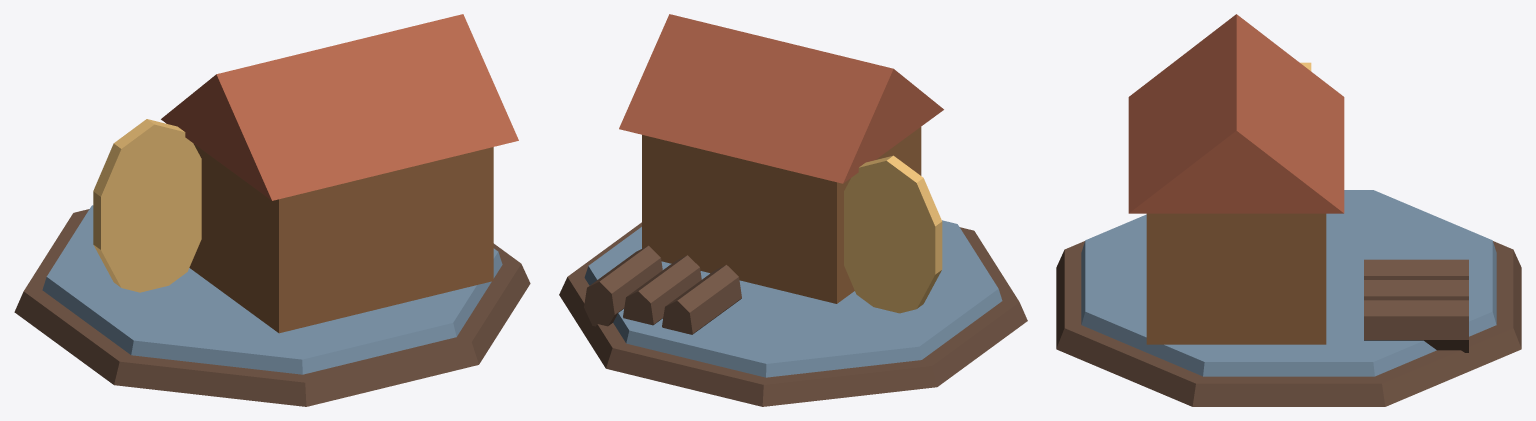
Rendered from Sawmill_1.fbx.
The picture shows the model from 3 angles, left to right: view 1: azimuth 30°, elevation 25°; view 2: azimuth 150°, elevation 25°; view 3: azimuth 270°, elevation 25°; orthographic projection. The views are drawn at different scales.
Visible parts, largest first — view 1: Sawmill_1; view 2: Sawmill_1; view 3: Sawmill_1.
Part boxes in pixels (<box>): Sawmill_1: <box>14,14,530,406</box>; Sawmill_1: <box>559,14,1027,406</box>; Sawmill_1: <box>1056,14,1521,406</box>.
Size of the model in its own units: 2.9 by 1.75 by 2.9.
